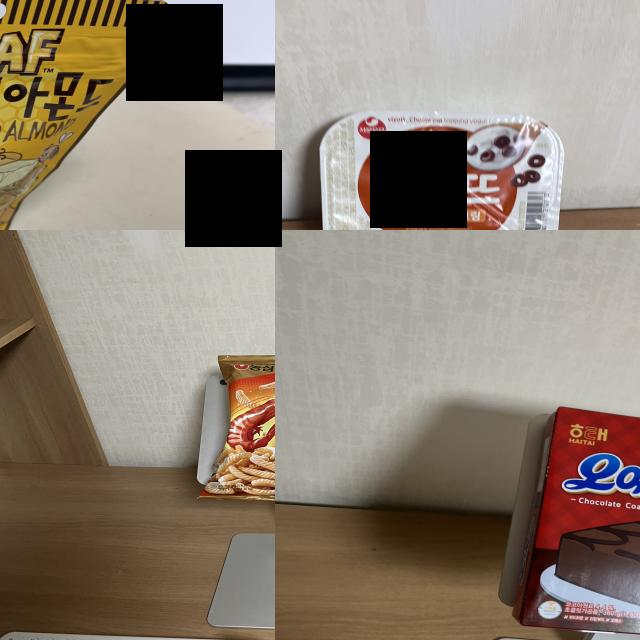bYott: (323, 110, 553, 230)
honeyAmond: (0, 0, 164, 230)
ohYes: (538, 422, 640, 638)
shrimpGGang: (215, 356, 275, 499)
